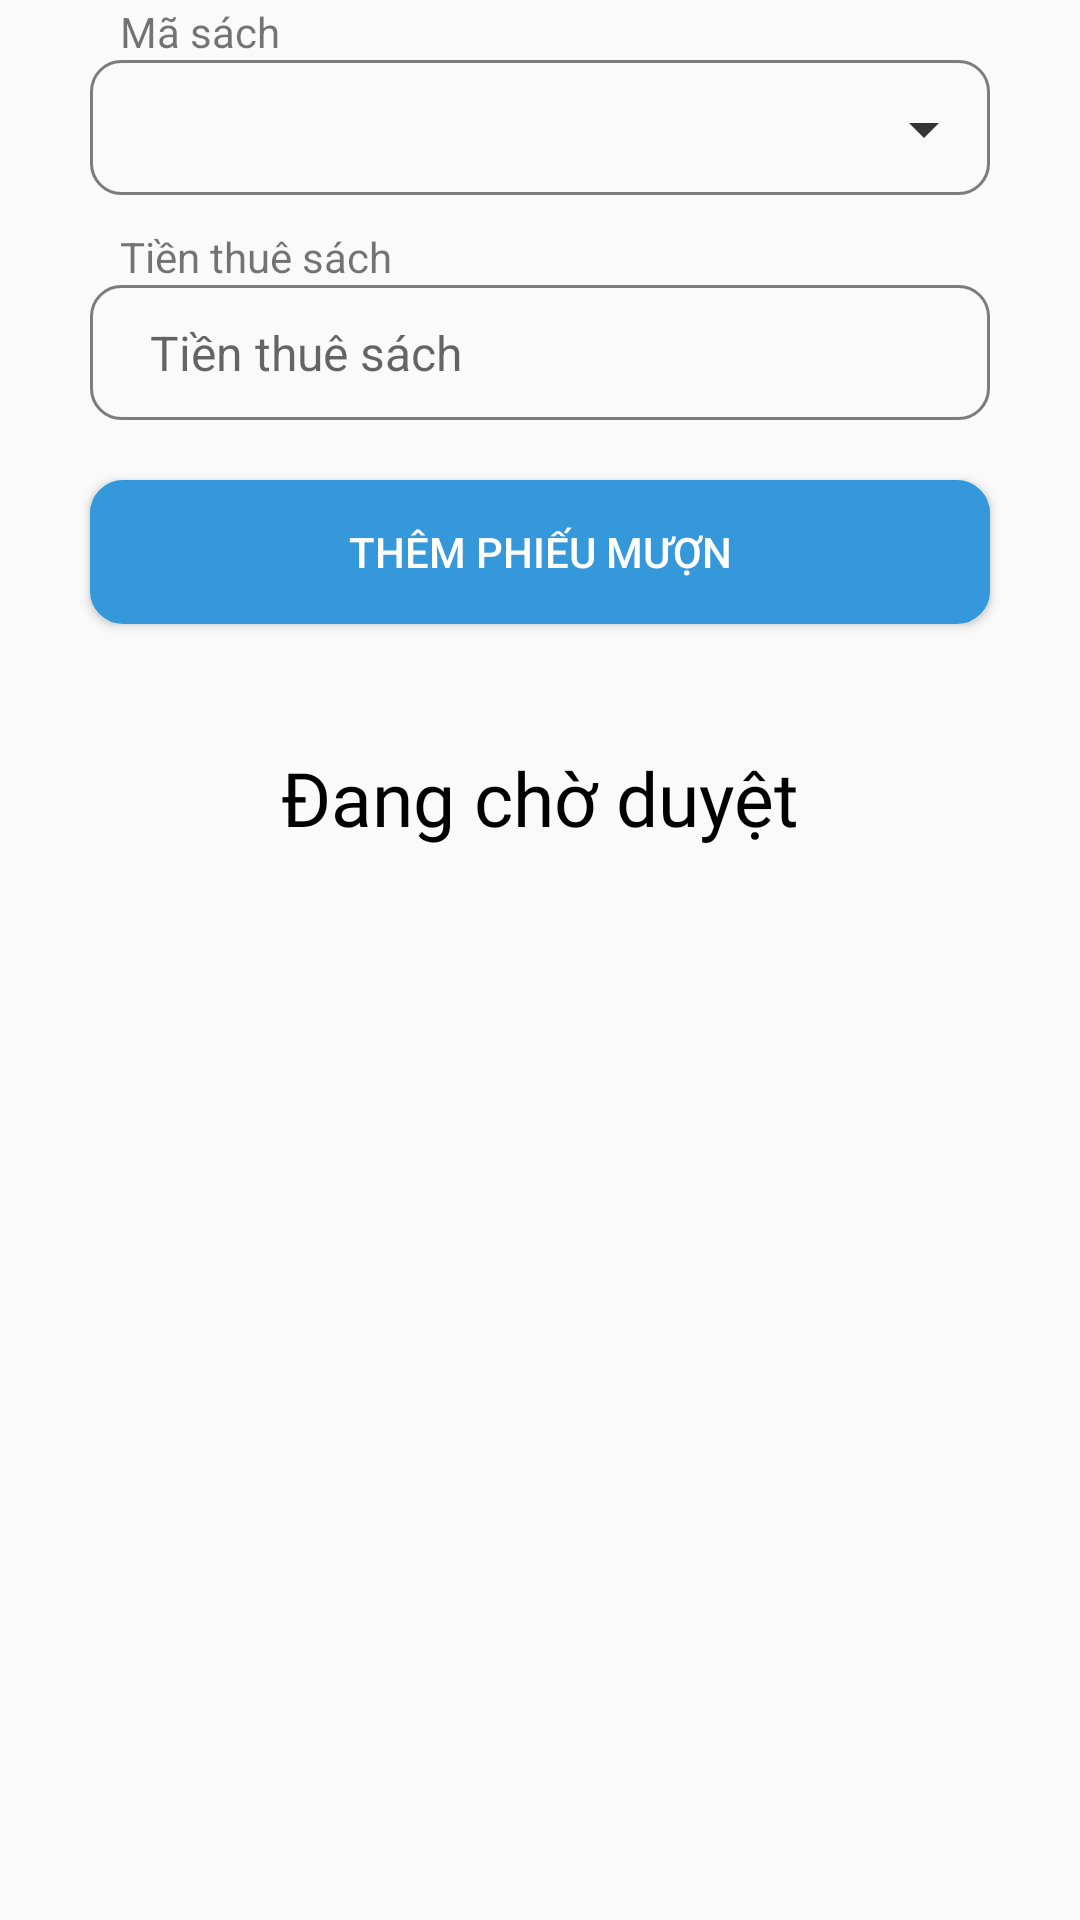

Icons on this 1080×1920 Android screen, each with the point to tap as [x,y]:
down: [924,130]
